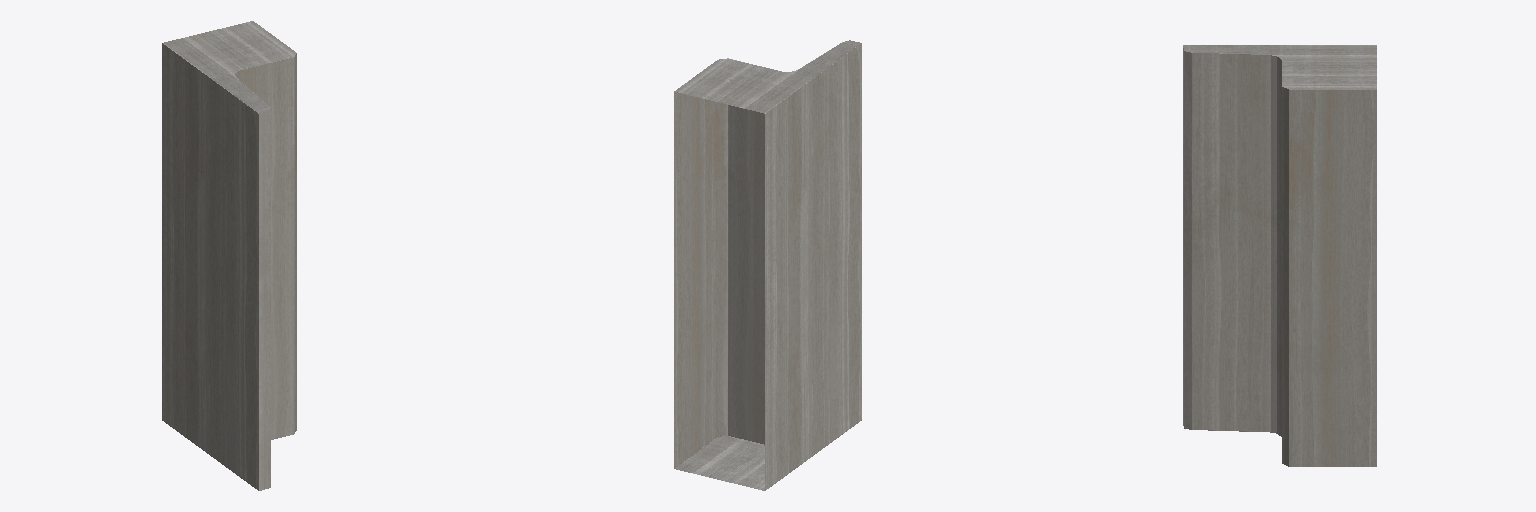
3 views of the same model, side by side, from view 1: azimuth 30°, elevation 25°; view 2: azimuth 150°, elevation 25°; view 3: azimuth 270°, elevation 25° (orthographic).
Visible parts, largest first — view 1: FoodCourtBenchLong; view 2: FoodCourtBenchLong; view 3: FoodCourtBenchLong.
Boxes of the visible parts, x1=… form: FoodCourtBenchLong: x1=162, y1=21, x2=296, y2=490; FoodCourtBenchLong: x1=674, y1=40, x2=861, y2=490; FoodCourtBenchLong: x1=1183, y1=45, x2=1376, y2=466.
Bounding box in the file's own units: 0.4725 × 1.87 × 0.8697.
Materials: 1 (1 with a texture image).